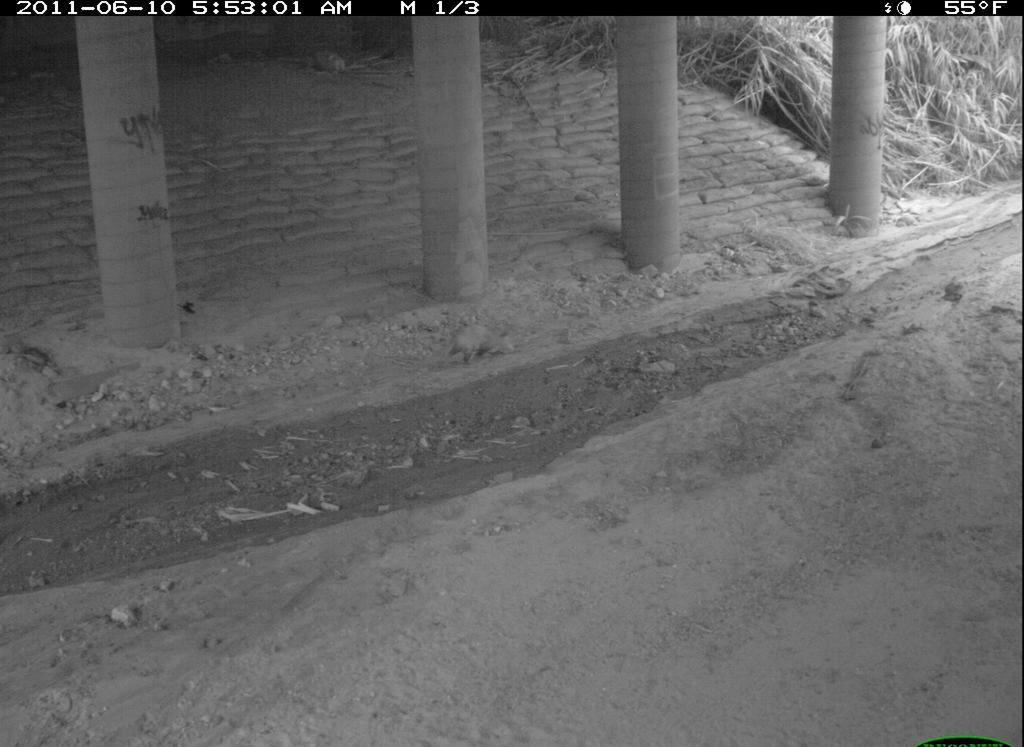opossum: (865, 637, 1024, 740)
